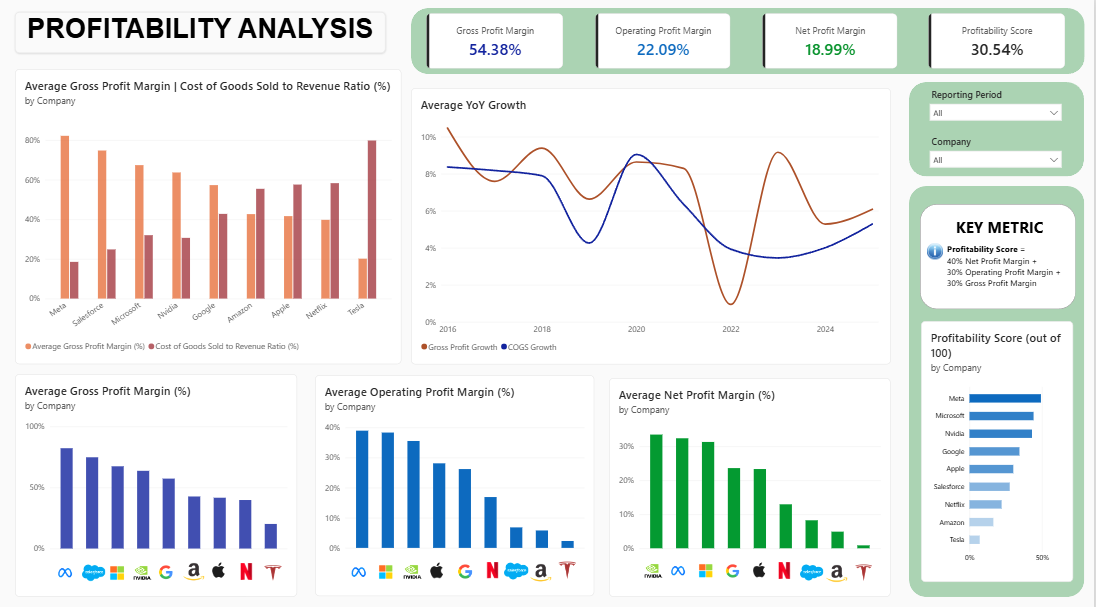

The page's visual inventory and layout, read from the dashboard file:
{"tool":"powerbi","page":{"name":"Profitability Analysis","canvas":[1920,1080],"ordinal":1},"visuals":[{"type":"shape","box":[1595.7,144.3,307.1,165.7],"z":0},{"type":"shape","box":[1615.1,358.6,273.4,184.6],"z":0,"group":"g4"},{"type":"clusteredColumnChart","title":"Average Gross Profit Margin (%)","fields":{"Category":["public financial_performance.company"],"Y":["Computations.Average_GP_margin%"]},"box":[27.3,656.2,495.4,391.2],"z":0,"group":"g5"},{"type":"clusteredColumnChart","title":"Average Operating Profit Margin (%)","fields":{"Category":["public financial_performance.company"],"Y":["Computations.Avg_OP_Profit_Margin"]},"box":[553.4,658.4,490,388.3],"z":0,"group":"g8"},{"type":"clusteredColumnChart","title":"Average Net Profit Margin (%)","fields":{"Category":["public financial_performance.company"],"Y":["Computations.Avg_Net_Profit_Margin%"]},"box":[1069,663.3,493.5,383.8],"z":0,"group":"g7"},{"type":"shape","box":[722,14,1182,116],"z":1000},{"type":"textbox","box":[1637.3,379.1,234.1,44.3],"z":1000,"group":"g4"},{"type":"image","box":[233.1,984.5,37.2,41.7],"z":1000,"group":"g5"},{"type":"shape","box":[1596.1,326.4,307.6,721.1],"z":2000},{"type":"textbox","box":[1662.1,427.7,204.3,88.6],"z":2000,"group":"g4"},{"type":"image","box":[705.9,982.2,37.5,42.5],"z":2000,"group":"g8"},{"type":"image","box":[462.3,983.8,34.5,42.5],"z":2000,"group":"g5"},{"type":"slicer","fields":{"Values":["public financial_performance.reporting_period"]},"box":[1628.5,153.8,240.9,70.1],"z":3000},{"type":"image","box":[1627.1,414.5,28,53.8],"z":3000,"group":"g4"},{"type":"image","box":[92.9,979.5,46.1,50],"z":3000,"group":"g5"},{"type":"image","box":[1128.3,980.4,37.4,42],"z":3000,"group":"g7"},{"type":"slicer","fields":{"Values":["public financial_performance.company"]},"box":[1628.5,237.5,240.9,71.8],"z":4000},{"type":"image","box":[978.4,979.6,36.2,42.5],"z":4000,"group":"g8"},{"type":"image","box":[319.8,985,40.2,38],"z":4000,"group":"g5"},{"type":"textbox","box":[28.3,21.7,650,71.7],"z":5000},{"type":"image","box":[363.3,982.6,40.2,38],"z":5000,"group":"g5"},{"type":"group","id":"g1","title":"Group 3","box":[1045.7,22.9,238.6,98.6],"z":6000},{"type":"cardVisual","fields":{"Data":["Computations.Avg_OP_Profit_Margin"]},"box":[1045.7,22.9,238.2,98.5],"z":6000,"group":"g1"},{"type":"cardVisual","fields":{"Data":["Computations.Avg_Net_Profit_Margin%"]},"box":[1338.6,22.9,238.2,98.5],"z":6000,"group":"g3"},{"type":"image","box":[605.9,978.4,47.5,51.2],"z":6000,"group":"g8"},{"type":"image","box":[1499.7,983.5,34.3,40.4],"z":6000,"group":"g7"},{"type":"image","box":[417.7,987.3,29.4,29.7],"z":6000,"group":"g5"},{"type":"group","id":"g2","title":"Group 4","box":[750,22.9,241.4,98.6],"z":7000},{"type":"image","box":[144.4,979.5,40.8,51.7],"z":7000,"group":"g5"},{"type":"group","id":"g3","title":"Group 3","box":[1338.6,22.9,237.1,98.6],"z":8000},{"type":"image","box":[929.6,987.2,41.2,37.5],"z":8000,"group":"g8"},{"type":"image","box":[190.5,987.9,31.9,35],"z":8000,"group":"g5"},{"type":"group","id":"g4","title":"Group 5","box":[1615.1,358.6,273.4,184.6],"z":9000},{"type":"image","box":[1167.3,975.8,45.5,50.1],"z":9000,"group":"g7"},{"type":"image","box":[275.3,986.2,33.6,35.9],"z":9000,"group":"g5"},{"type":"group","id":"g5","title":"Group 2","box":[27.3,656.2,496.7,391.7],"z":10000,"group":"g9"},{"type":"image","box":[747.2,982.2,41.2,38.8],"z":10000,"group":"g8"},{"type":"group","id":"g6","title":"Group 4","box":[1630,22.9,241.4,98.6],"z":11000},{"type":"clusteredColumnChart","title":"Average Gross Profit Margin | Cost of Goods Sold to Revenue Ratio (%)","fields":{"Category":["public financial_performance.company"],"Y":["Computations.Average_GP_margin%","Computations.COGS_to_rev_ratio"]},"box":[27.3,121.3,678.4,517.8],"z":12000},{"type":"image","box":[849.6,987.2,30,28.8],"z":12000,"group":"g8"},{"type":"image","box":[1448.2,988.2,40.6,37.3],"z":12000,"group":"g7"},{"type":"cardVisual","fields":{"Data":["Computations.Average_GP_margin%"]},"box":[750,22.9,241.4,98.5],"z":13000,"group":"g2"},{"type":"cardVisual","fields":{"Data":["Computations.Profitability Score"]},"box":[1630,22.9,241.4,98.5],"z":13000,"group":"g6"},{"type":"clusteredBarChart","title":"Profitability Score (out of 100)","fields":{"Category":["public financial_performance.company"],"Y":["Computations.Profitability Score"]},"box":[1616.7,563.3,266.7,458.3],"z":13000},{"type":"lineChart","title":"Average YoY Growth","fields":{"Category":["public financial_performance.Date.Variation.Date Hierarchy.Year"],"Y":["Computations.Average_GP_growth%","Computations.Avg_COGS_growth%"]},"box":[722.8,153.8,842.5,485.3],"z":14000},{"type":"image","box":[884.6,975.9,42.5,52.5],"z":14000,"group":"g8"},{"type":"group","id":"g7","title":"Group 1","box":[1069,663.3,481.2,383.8],"z":15000,"group":"g9"},{"type":"image","box":[1312.4,982,40.6,37.3],"z":15000,"group":"g7"},{"type":"group","id":"g8","title":"Group 6","box":[553.4,658.4,490,388.3],"z":16000,"group":"g9"},{"type":"group","id":"g9","title":"Group 7","box":[27.3,656.2,1522.6,391.3],"z":16001},{"type":"image","box":[662.2,985.9,31.2,35],"z":17000,"group":"g8"},{"type":"image","box":[798.4,984.6,35,36.2],"z":18000,"group":"g8"},{"type":"image","box":[1362.4,986.6,29.6,29.5],"z":18000,"group":"g7"},{"type":"image","box":[1404.5,978.9,40.6,51.3],"z":21000,"group":"g7"},{"type":"image","box":[1223.5,985.1,31.2,34.2],"z":25000,"group":"g7"},{"type":"image","box":[1268.7,983.5,32.8,35.8],"z":27000,"group":"g7"}]}

Visuals, with their boxes in screenshot pixels (x1, y1, x2, y2), scaled from the page's 1920x1080 canvas onto the 1096x607 screenshot:
shape: bbox=(911, 81, 1086, 174)
shape: bbox=(922, 202, 1078, 305)
"Average Gross Profit Margin (%)" clusteredColumnChart: bbox=(16, 369, 298, 589)
"Average Operating Profit Margin (%)" clusteredColumnChart: bbox=(316, 370, 596, 588)
"Average Net Profit Margin (%)" clusteredColumnChart: bbox=(610, 373, 892, 589)
shape: bbox=(412, 8, 1087, 73)
textbox: bbox=(935, 213, 1068, 238)
image: bbox=(133, 553, 154, 577)
shape: bbox=(911, 183, 1087, 589)
textbox: bbox=(949, 240, 1065, 290)
image: bbox=(403, 552, 424, 576)
image: bbox=(264, 553, 284, 577)
slicer - public financial_performance.reporting_period: bbox=(930, 86, 1067, 126)
image: bbox=(929, 233, 945, 263)
image: bbox=(53, 551, 79, 579)
image: bbox=(644, 551, 665, 575)
slicer - public financial_performance.company: bbox=(930, 133, 1067, 174)
image: bbox=(559, 551, 579, 574)
image: bbox=(183, 554, 206, 575)
textbox: bbox=(16, 12, 387, 52)
image: bbox=(207, 552, 230, 574)
"Group 3" group: bbox=(597, 13, 733, 68)
cardVisual - Computations.Avg_OP_Profit_Margin: bbox=(597, 13, 733, 68)
cardVisual - Computations.Avg_Net_Profit_Margin%: bbox=(764, 13, 900, 68)
image: bbox=(346, 550, 373, 579)
image: bbox=(856, 553, 876, 575)
image: bbox=(238, 555, 255, 572)
"Group 4" group: bbox=(428, 13, 566, 68)
image: bbox=(82, 551, 106, 580)
"Group 3" group: bbox=(764, 13, 899, 68)
image: bbox=(531, 555, 554, 576)
image: bbox=(109, 555, 127, 575)
"Group 5" group: bbox=(922, 202, 1078, 305)
image: bbox=(666, 548, 692, 577)
image: bbox=(157, 554, 176, 574)
"Group 2" group: bbox=(16, 369, 299, 589)
image: bbox=(427, 552, 450, 574)
"Group 4" group: bbox=(930, 13, 1068, 68)
"Average Gross Profit Margin | Cost of Goods Sold to Revenue Ratio (%)" clusteredColumnChart: bbox=(16, 68, 403, 359)
image: bbox=(485, 555, 502, 571)
image: bbox=(827, 555, 850, 576)
cardVisual - Computations.Average_GP_margin%: bbox=(428, 13, 566, 68)
cardVisual - Computations.Profitability Score: bbox=(930, 13, 1068, 68)
"Profitability Score (out of 100)" clusteredBarChart: bbox=(923, 317, 1075, 574)
"Average YoY Growth" lineChart: bbox=(413, 86, 894, 359)
image: bbox=(505, 548, 529, 578)
"Group 1" group: bbox=(610, 373, 885, 589)
image: bbox=(749, 552, 772, 573)
"Group 6" group: bbox=(316, 370, 596, 588)
"Group 7" group: bbox=(16, 369, 885, 589)
image: bbox=(378, 554, 396, 574)
image: bbox=(456, 553, 476, 574)
image: bbox=(778, 555, 795, 571)
image: bbox=(802, 550, 825, 579)
image: bbox=(698, 554, 716, 573)
image: bbox=(724, 553, 743, 573)
